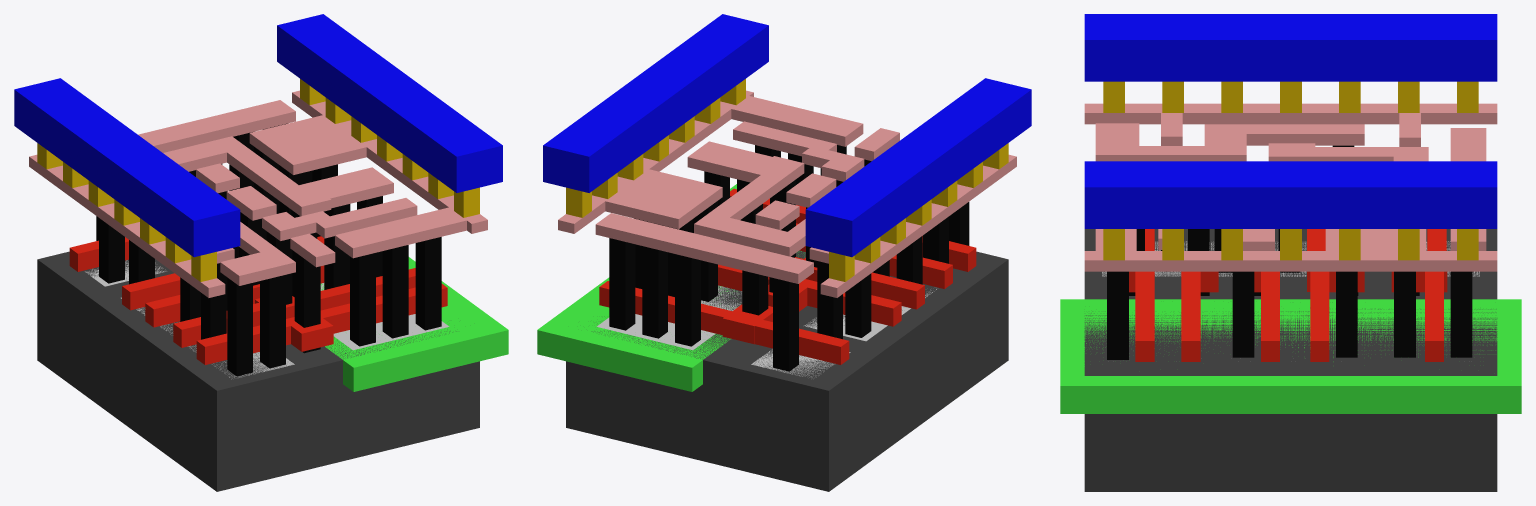
Rendered from sky130_fd_sc_hd__o22a_1.obj.
3 views of the same model, side by side, from view 1: azimuth 30°, elevation 25°; view 2: azimuth 150°, elevation 25°; view 3: azimuth 270°, elevation 25° (orthographic). The views are drawn at different scales.
Visible parts, largest first — view 1: subs, metal1, li, licon, poly, nwell, mcon, tap, diff; view 2: subs, metal1, li, licon, poly, nwell, mcon, tap, diff; view 3: metal1, subs, li, nwell, poly, licon, mcon, diff.
Boxes of the visible parts, x1=… form: subs: x1=37, y1=251, x2=479, y2=491; metal1: x1=14, y1=14, x2=502, y2=257; li: x1=29, y1=90, x2=487, y2=297; licon: x1=96, y1=123, x2=441, y2=376; poly: x1=69, y1=236, x2=447, y2=364; nwell: x1=320, y1=257, x2=508, y2=391; mcon: x1=37, y1=79, x2=479, y2=281; tap: x1=320, y1=283, x2=449, y2=350; diff: x1=85, y1=260, x2=294, y2=379; subs: x1=566, y1=250, x2=1008, y2=491; metal1: x1=543, y1=14, x2=1031, y2=257; li: x1=558, y1=90, x2=1016, y2=297; licon: x1=609, y1=145, x2=969, y2=371; poly: x1=599, y1=188, x2=976, y2=364; nwell: x1=537, y1=184, x2=804, y2=391; mcon: x1=566, y1=79, x2=1008, y2=281; tap: x1=596, y1=285, x2=741, y2=350; diff: x1=751, y1=289, x2=936, y2=377; metal1: x1=1084, y1=14, x2=1497, y2=228; subs: x1=1084, y1=229, x2=1497, y2=491; li: x1=1084, y1=103, x2=1497, y2=271; nwell: x1=1060, y1=299, x2=1521, y2=413; poly: x1=1129, y1=229, x2=1447, y2=361; licon: x1=1107, y1=145, x2=1472, y2=359; mcon: x1=1103, y1=81, x2=1478, y2=260; diff: x1=1102, y1=241, x2=1479, y2=276.
Bounding box in the file's own units: 3.2 × 2.74 × 3.6.
